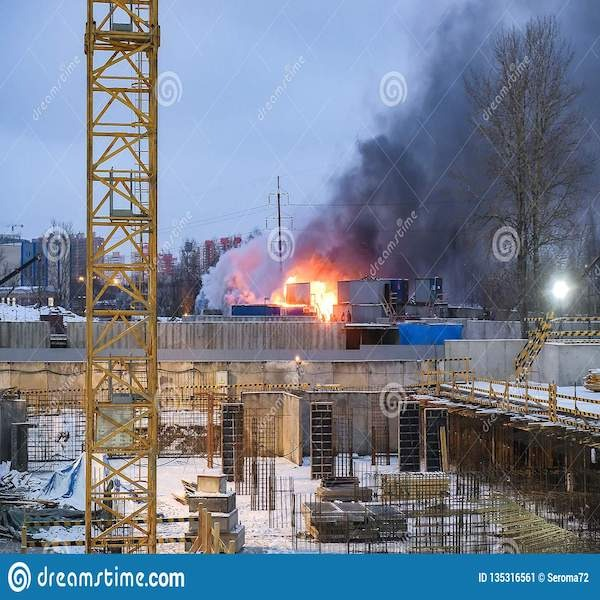fire: (287, 261, 341, 316)
